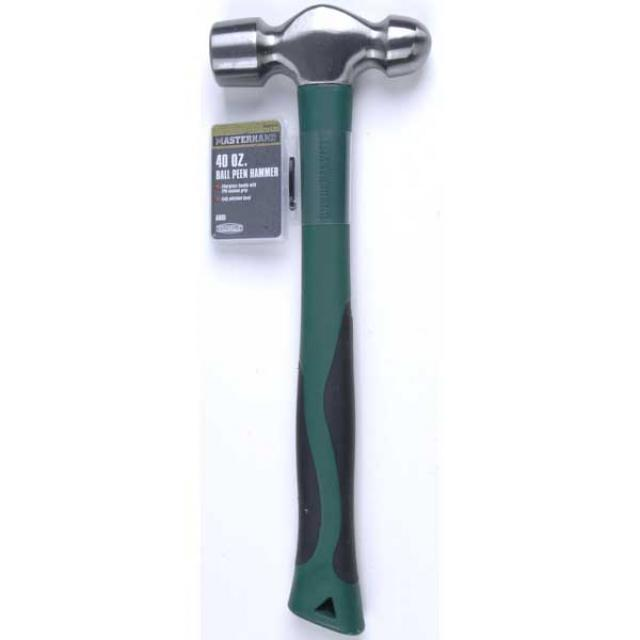hammer: (196, 0, 442, 640)
